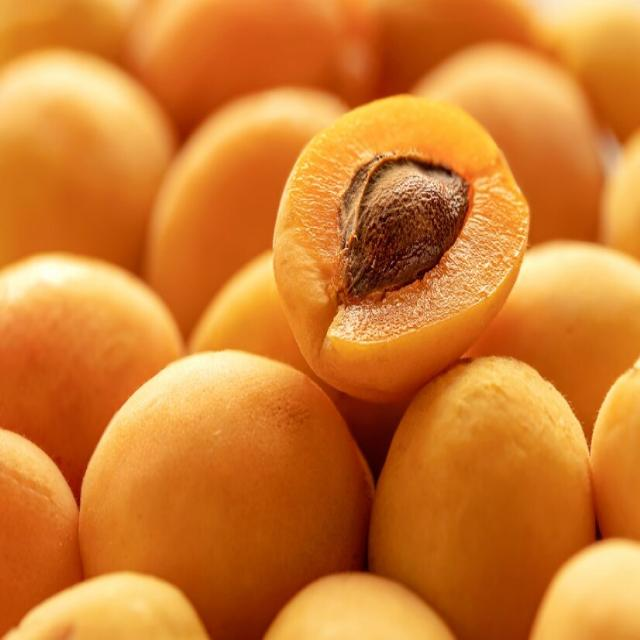kayisi: (271, 90, 536, 392), (68, 347, 372, 603), (392, 366, 592, 622), (145, 90, 337, 318), (405, 42, 607, 225), (0, 46, 165, 269), (517, 226, 640, 397), (2, 573, 215, 640), (246, 574, 462, 640), (531, 533, 640, 640), (592, 355, 640, 540), (593, 127, 640, 247)
kayisi cekirdegi: (337, 156, 471, 284)
